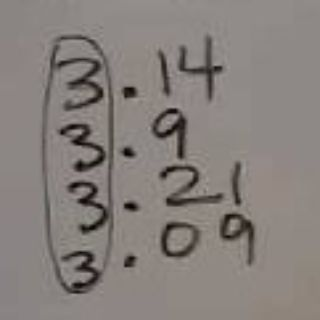.: (121, 81, 141, 101)
0: (155, 220, 203, 260)
1: (155, 44, 175, 98), (230, 159, 250, 208)
2: (156, 162, 224, 208)
3: (65, 176, 109, 234)
4: (177, 35, 226, 101)
9: (149, 104, 193, 162), (217, 211, 260, 266)
